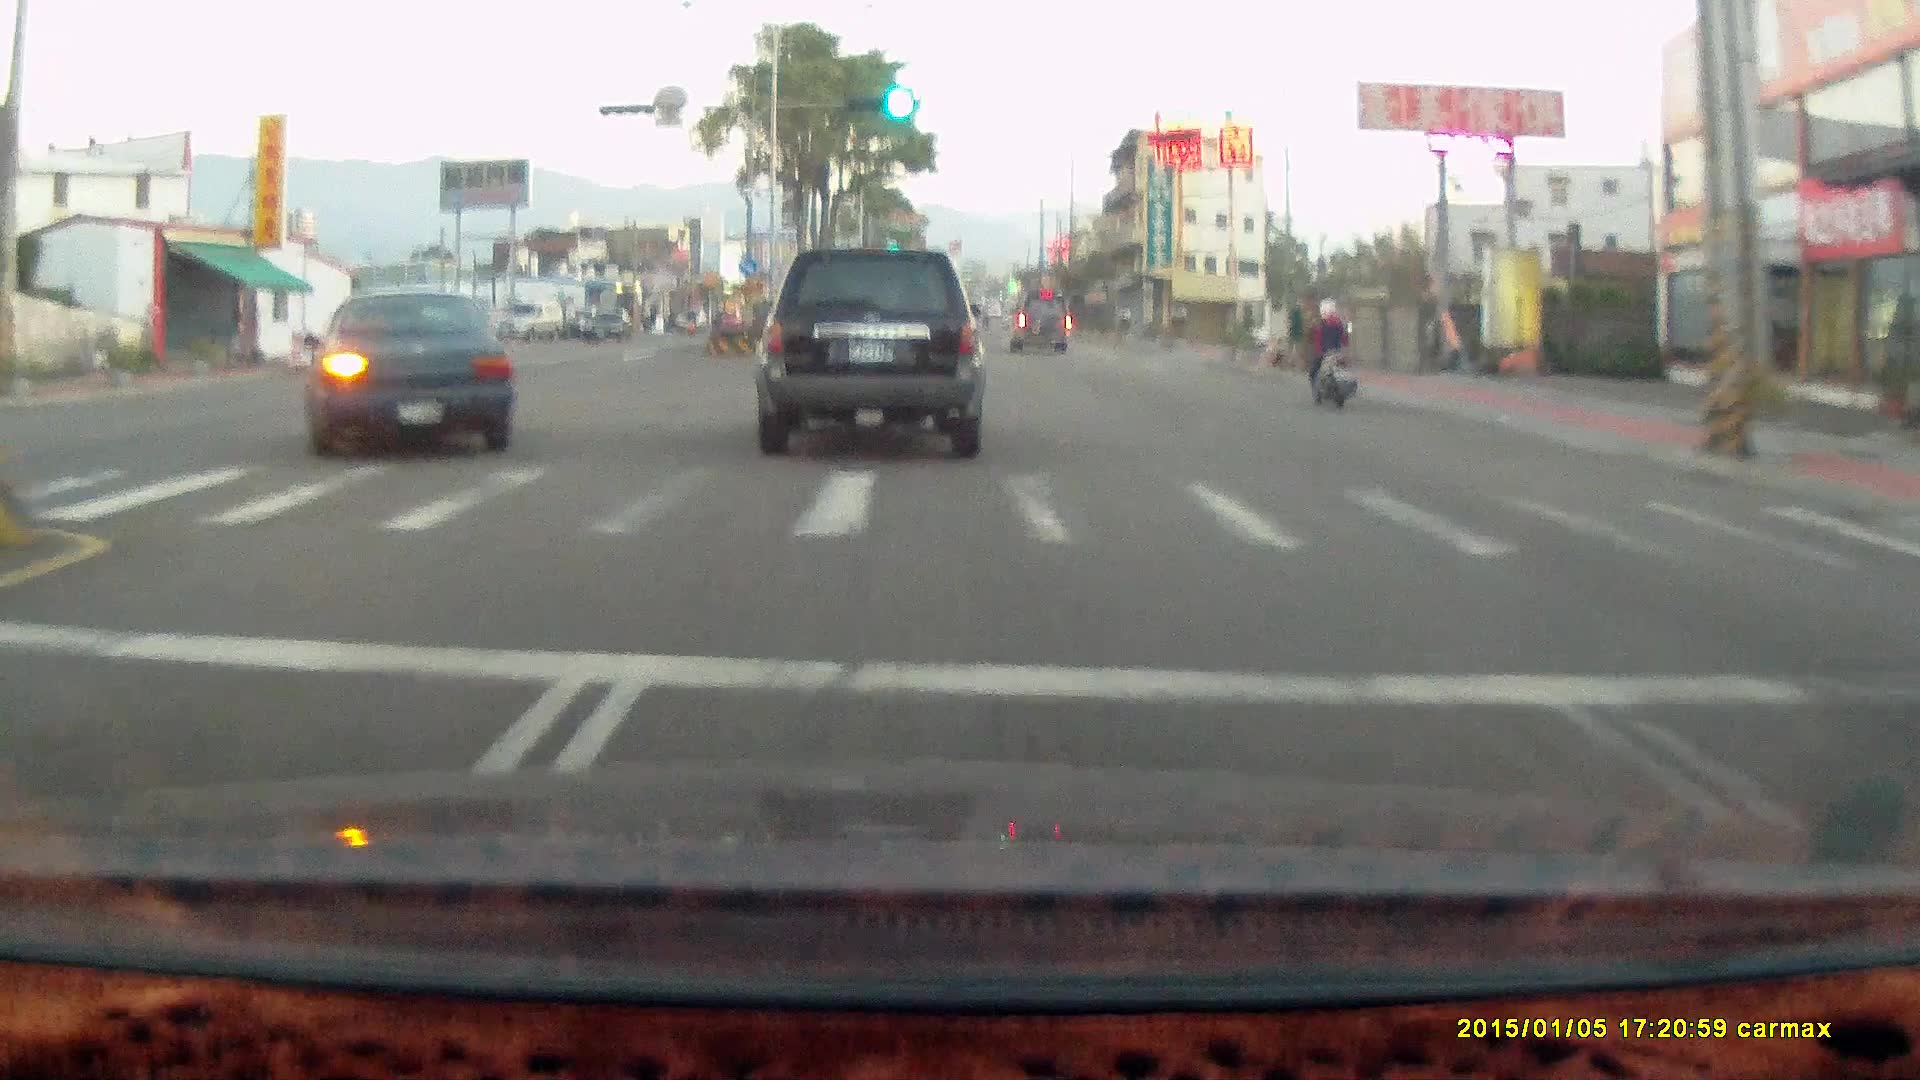rider: (1288, 286, 1370, 424), (1301, 291, 1358, 405)
vehicle: (760, 245, 989, 458), (753, 243, 982, 455), (307, 281, 515, 459), (300, 285, 514, 458), (1013, 289, 1074, 359), (1006, 291, 1070, 351), (490, 297, 563, 340), (580, 303, 632, 338)
